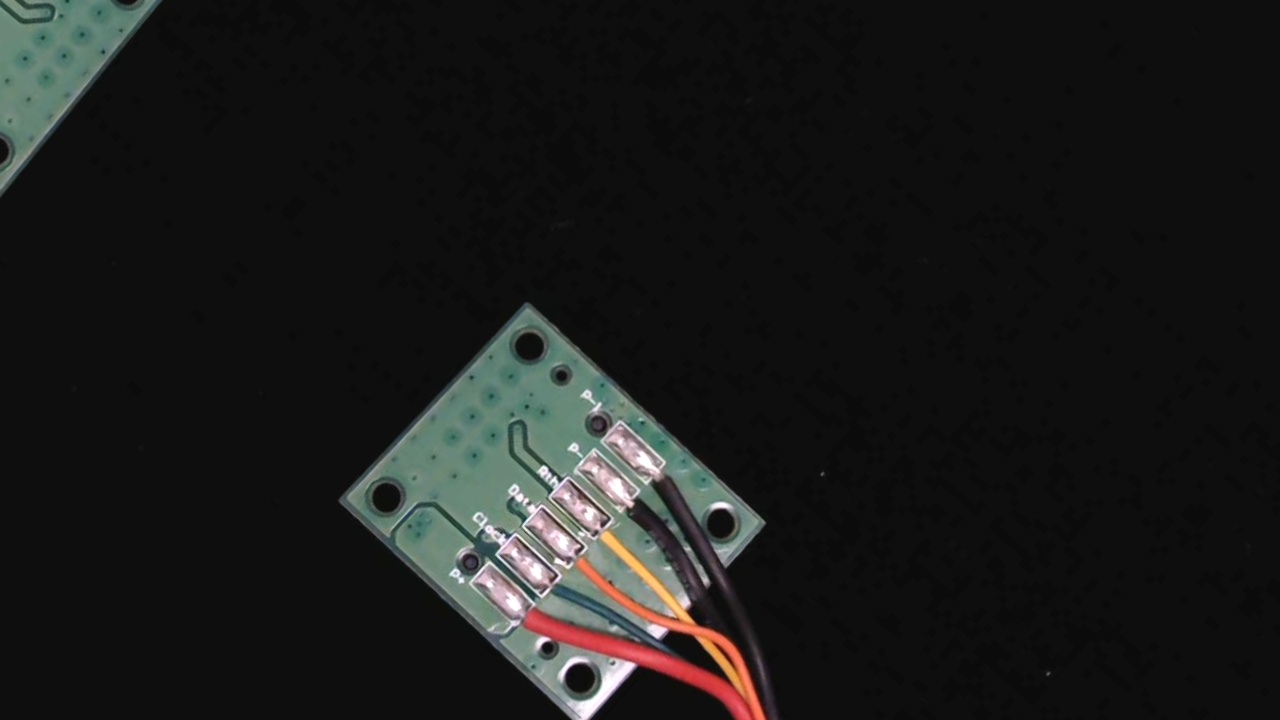Black: (602, 474, 680, 548)
Black1: (630, 447, 703, 517)
Green: (520, 554, 596, 626)
Orange: (551, 533, 627, 605)
Red: (497, 584, 573, 657)
Yellow: (578, 504, 657, 578)
